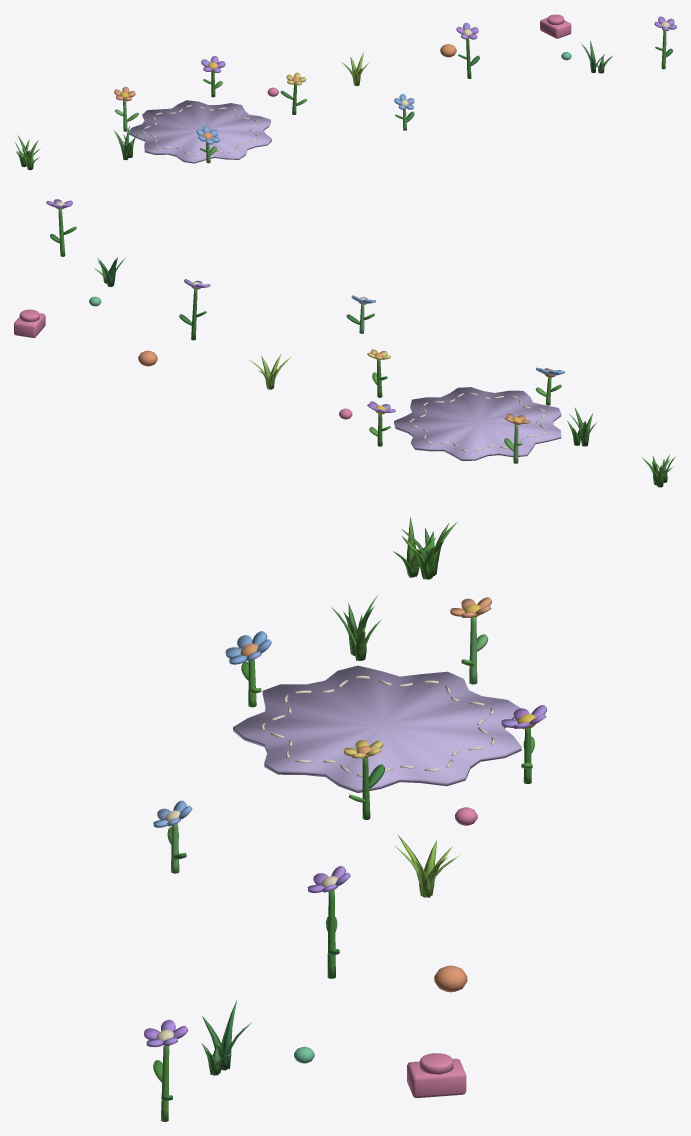
The model's file is W1_FloraRing_10_11.fbx.
3 views of the same model, one above another, from view 1: azimuth 30°, elevation 25°; view 2: azimuth 150°, elevation 25°; view 3: azimuth 270°, elevation 25° (orthographic). The views are drawn at different scales.
Visible parts, largest first — view 1: W1_FloraRing_10_11; view 2: W1_FloraRing_10_11; view 3: W1_FloraRing_10_11.
Boxes of the visible parts, bbox=[...] form: W1_FloraRing_10_11: bbox=[14, 14, 676, 170]; W1_FloraRing_10_11: bbox=[14, 199, 675, 487]; W1_FloraRing_10_11: bbox=[144, 517, 546, 1121].
Size of the model in its own units: 2.76 by 0.2499 by 0.8097.
